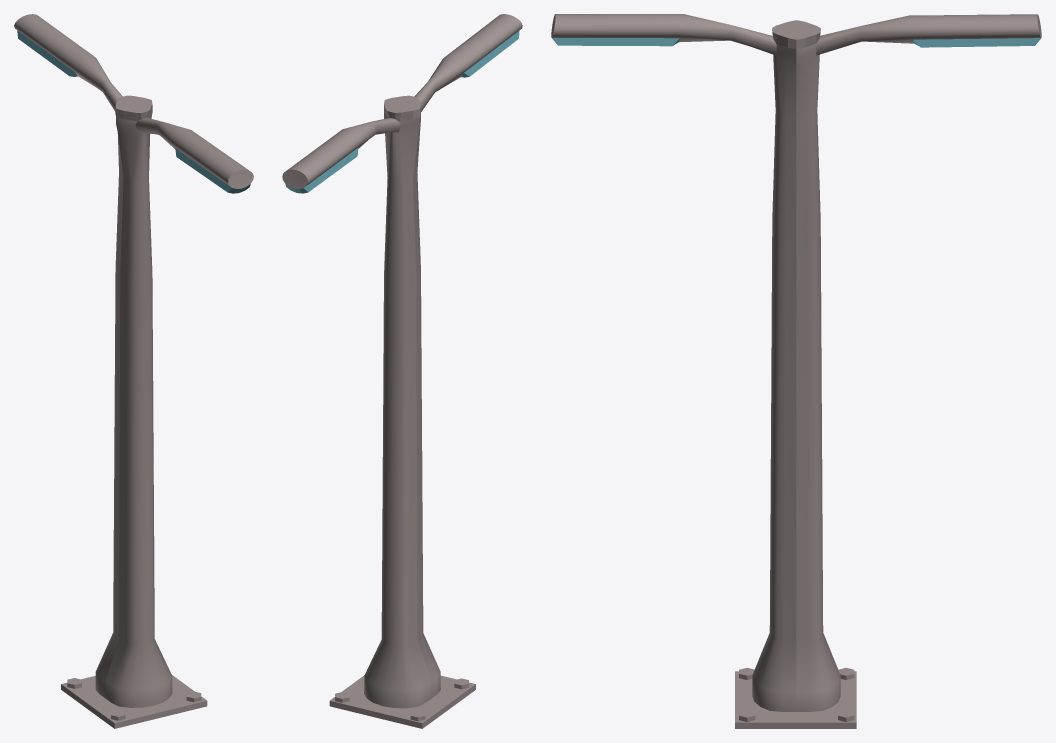
The model's file is Street_lamp.fbx.
3 renders of one model, left to right at view 1: azimuth 30°, elevation 25°; view 2: azimuth 150°, elevation 25°; view 3: azimuth 270°, elevation 25°, orthographic. The views are drawn at different scales.
Visible parts, largest first — view 1: Street_lamb; view 2: Street_lamb; view 3: Street_lamb.
Part boxes in pixels (bbox=[...]): Street_lamb: bbox=[14, 14, 253, 728]; Street_lamb: bbox=[282, 14, 522, 728]; Street_lamb: bbox=[551, 14, 1041, 728].
Bounding box in the file's own units: 3.23 × 20.15 × 13.04.
